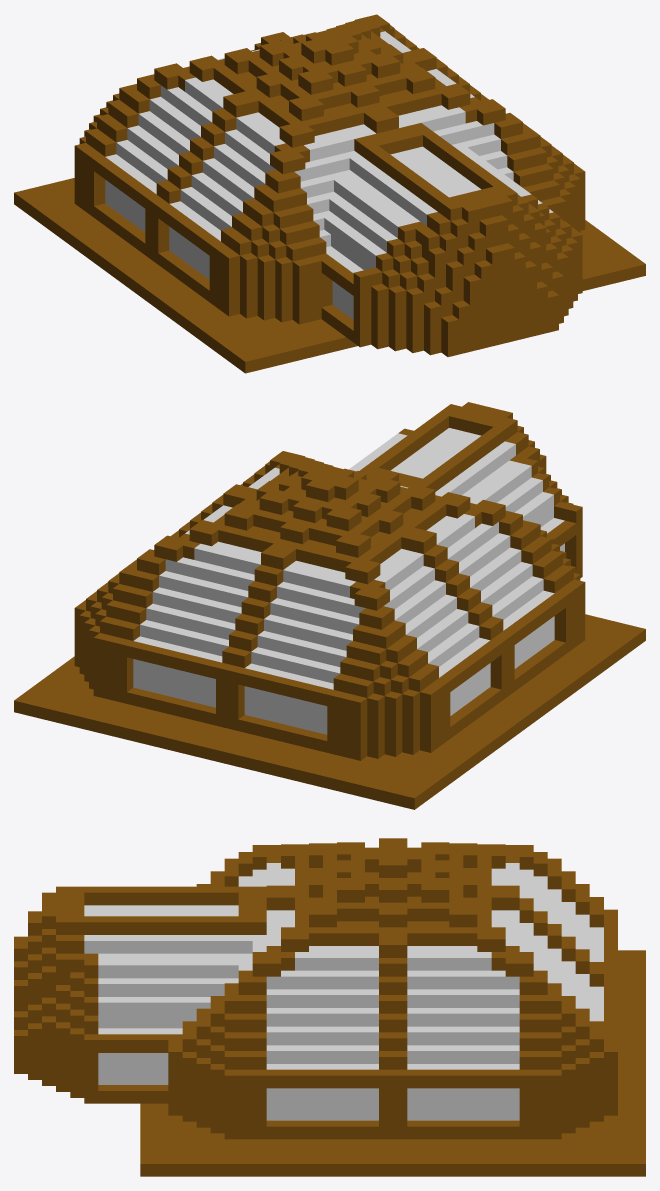
File: Second House-2-1-Upper Mill.obj
3 views of the same model, one above another, from view 1: azimuth 30°, elevation 25°; view 2: azimuth 150°, elevation 25°; view 3: azimuth 270°, elevation 25° (orthographic). The views are drawn at different scales.
Parts seen in each view (by area): view 1: Upper Mill; view 2: Upper Mill; view 3: Upper Mill.
Boxes of the visible parts, left/top/right/bottom form: Upper Mill: left=14, top=14, right=645, bottom=373; Upper Mill: left=14, top=402, right=645, bottom=809; Upper Mill: left=14, top=838, right=645, bottom=1176.
Bounding box in the file's own units: 3.6 × 1.7 × 4.5.
1 material, 1 textured.
